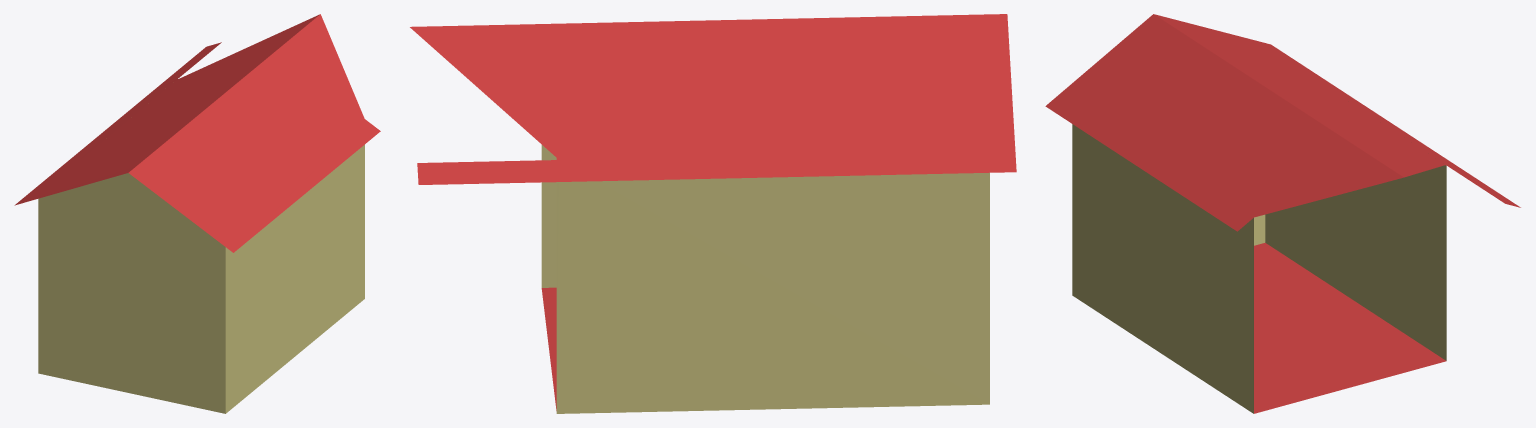
3 renders of one model, left to right at view 1: azimuth 30°, elevation 25°; view 2: azimuth 150°, elevation 25°; view 3: azimuth 270°, elevation 25°, orthographic. The views are drawn at different scales.
Bounding box in the file's own units: 11.85 × 12.19 × 7.04.
